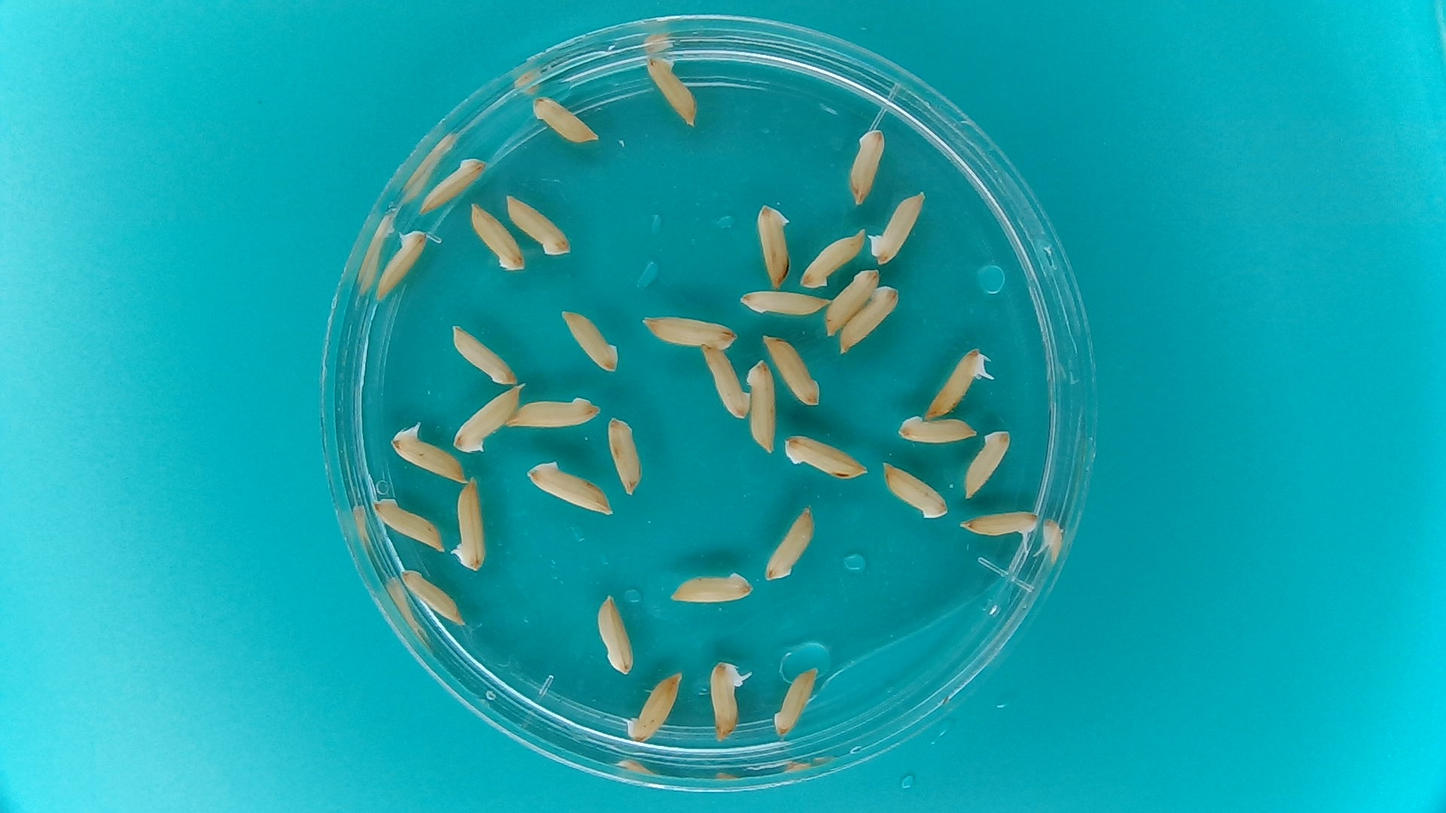no: (439, 472, 501, 588), (520, 455, 615, 518), (450, 380, 526, 455), (503, 190, 575, 259), (761, 502, 818, 583), (837, 283, 901, 355), (623, 668, 683, 744), (466, 199, 525, 275), (761, 333, 820, 409), (642, 50, 701, 126), (448, 321, 518, 385), (868, 189, 926, 266), (417, 153, 489, 215), (558, 306, 622, 375), (374, 225, 432, 301), (779, 431, 868, 480), (879, 461, 949, 522), (371, 495, 446, 551), (798, 227, 865, 289), (398, 565, 466, 626), (527, 90, 602, 145), (503, 391, 602, 432), (638, 311, 740, 350), (699, 343, 750, 421), (825, 265, 880, 336), (770, 664, 820, 740), (754, 201, 794, 290), (962, 427, 1010, 501), (845, 124, 887, 207), (595, 592, 636, 676), (669, 565, 755, 605), (742, 358, 777, 456), (606, 413, 646, 498), (735, 285, 829, 318), (895, 413, 978, 446)
yes: (922, 345, 993, 419), (389, 420, 468, 484), (708, 657, 754, 743), (957, 509, 1041, 553)
